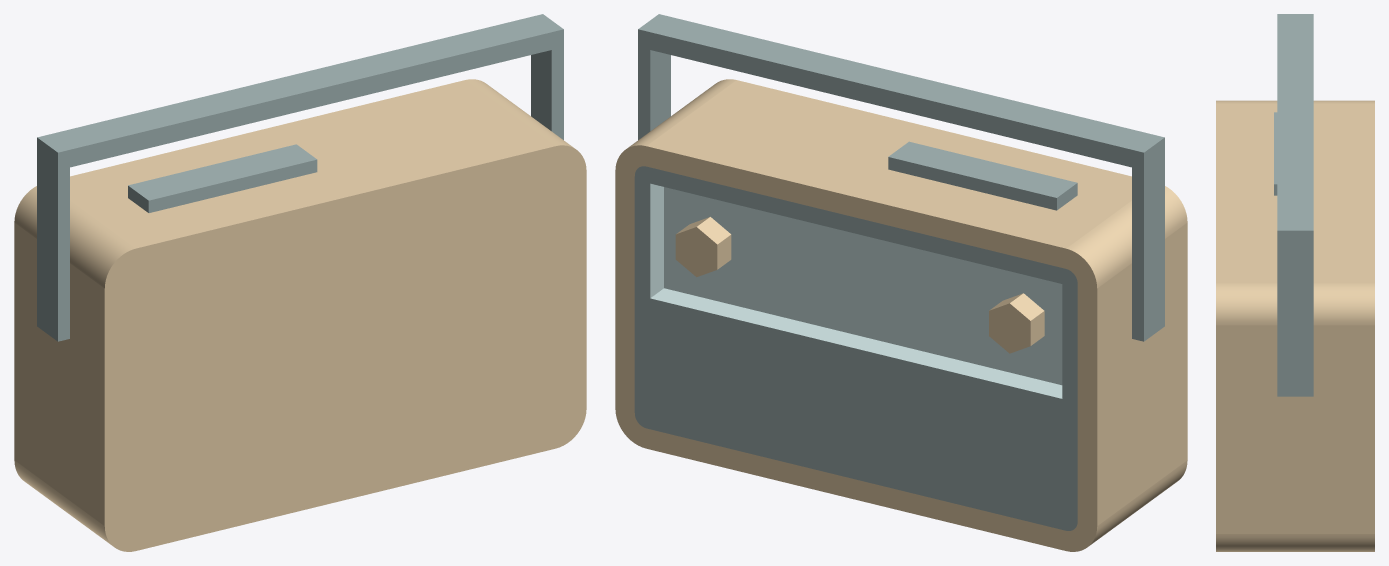
File: radio.glb
3 views of the same model, side by side, from view 1: azimuth 30°, elevation 25°; view 2: azimuth 150°, elevation 25°; view 3: azimuth 270°, elevation 25° (orthographic). The views are drawn at different scales.
Parts seen in each view (by area): view 1: _MeshInstance3D_603; view 2: _MeshInstance3D_603; view 3: _MeshInstance3D_603.
Boxes of the visible parts, x1,y1,x2,y2 form: _MeshInstance3D_603: (14,14,586,551); _MeshInstance3D_603: (615,14,1187,551); _MeshInstance3D_603: (1216,14,1374,551).
Bounding box in the file's own units: 3.15 × 2.28 × 0.975.
